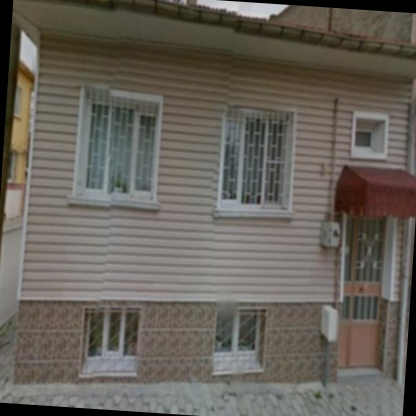door: (337, 217, 386, 370)
